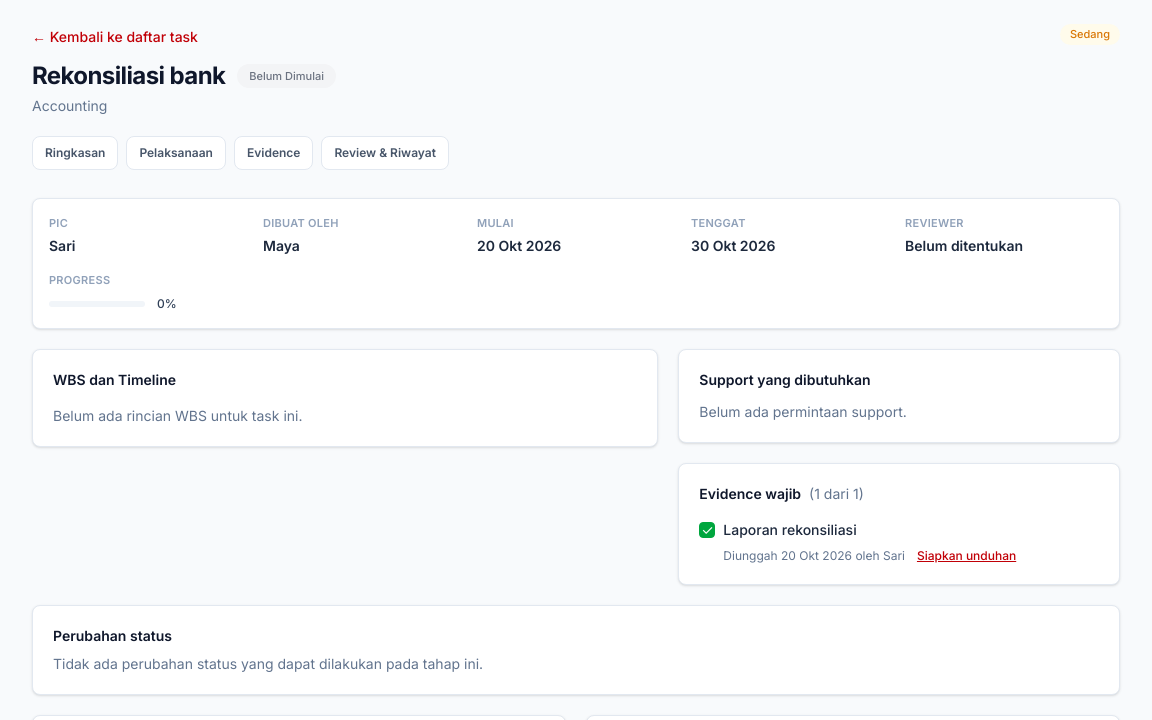
TaskDetailClient (docs/07 #6) › does not show PIC controls to other users and only exposes a signed file link after requesting it
Step 1. Click the button "Siapkan unduhan" → (967, 556), box [917, 548, 1016, 564]
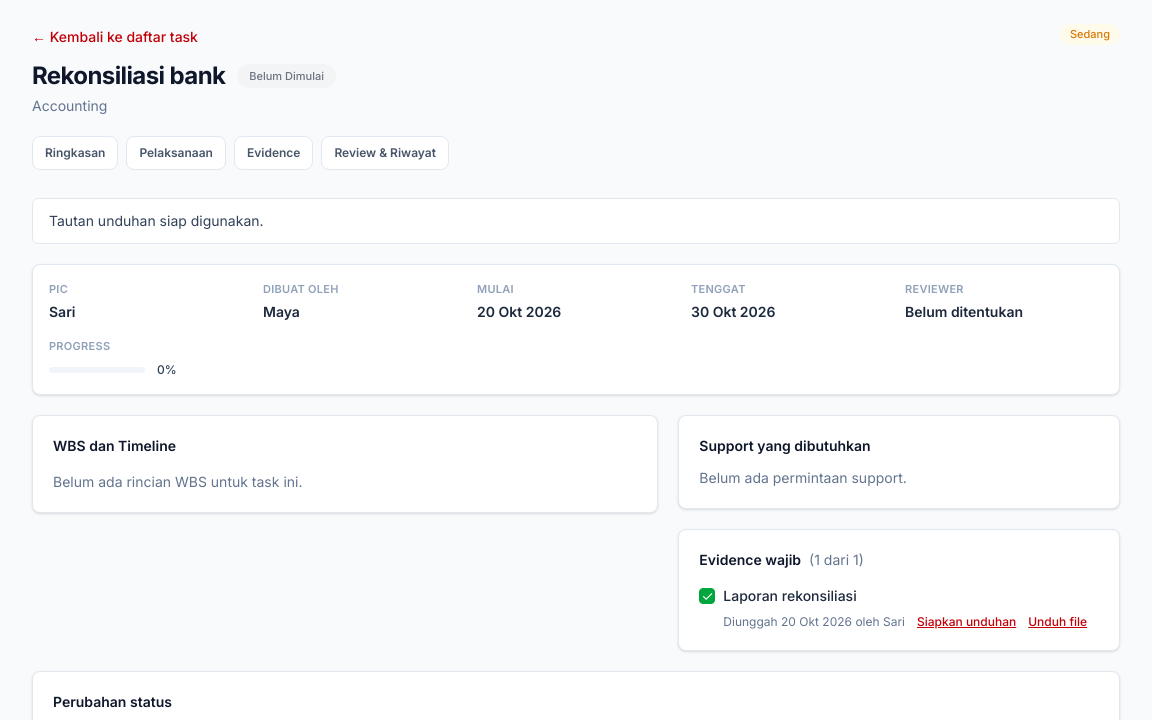
Expected: the link "Unduh file" is shown, [1028, 614, 1087, 630]
